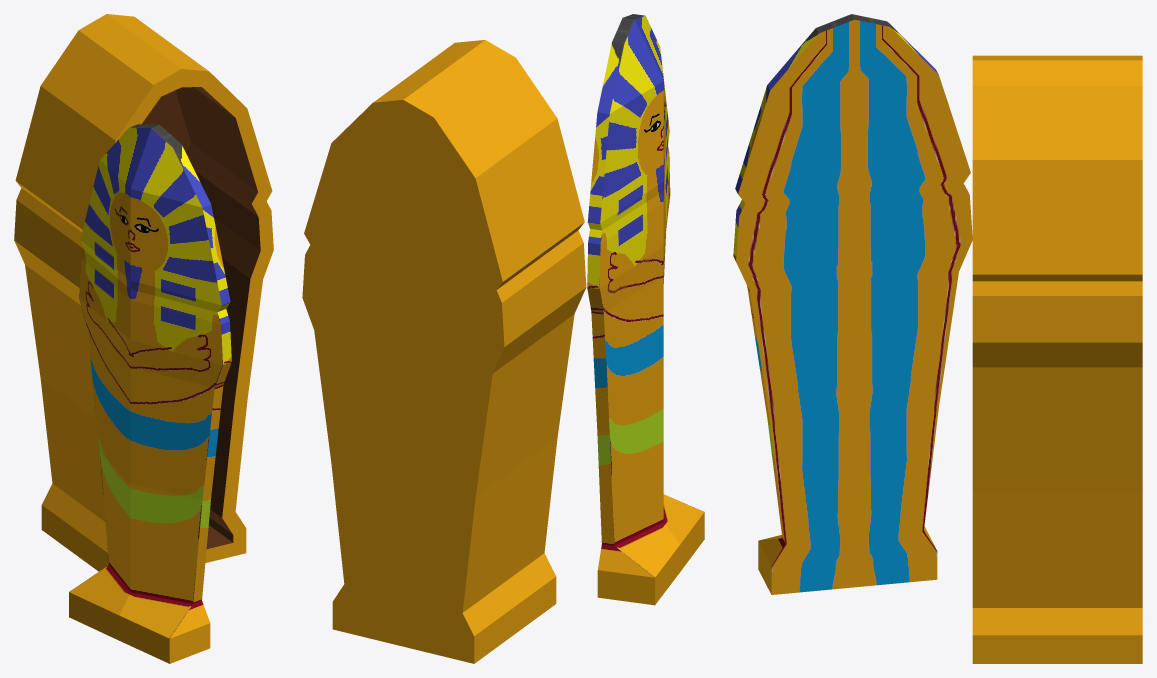
The model's file is Sarg.glb.
The picture shows the model from 3 angles, left to right: view 1: azimuth 30°, elevation 25°; view 2: azimuth 150°, elevation 25°; view 3: azimuth 270°, elevation 25°; orthographic projection. The views are drawn at different scales.
Parts seen in each view (by area): view 1: Deckel, Sarkophag; view 2: Sarkophag, Deckel; view 3: Deckel, Sarkophag.
Boxes of the visible parts, box(x1,y1,x2,y2) form: Deckel: box(69, 124, 231, 663); Sarkophag: box(14, 14, 273, 571); Sarkophag: box(302, 40, 586, 663); Deckel: box(587, 14, 704, 605); Deckel: box(733, 14, 972, 594); Sarkophag: box(972, 55, 1142, 663).
Bounding box in the file's own units: 1.02 × 2.15 × 1.4.
3 materials, 1 textured.
